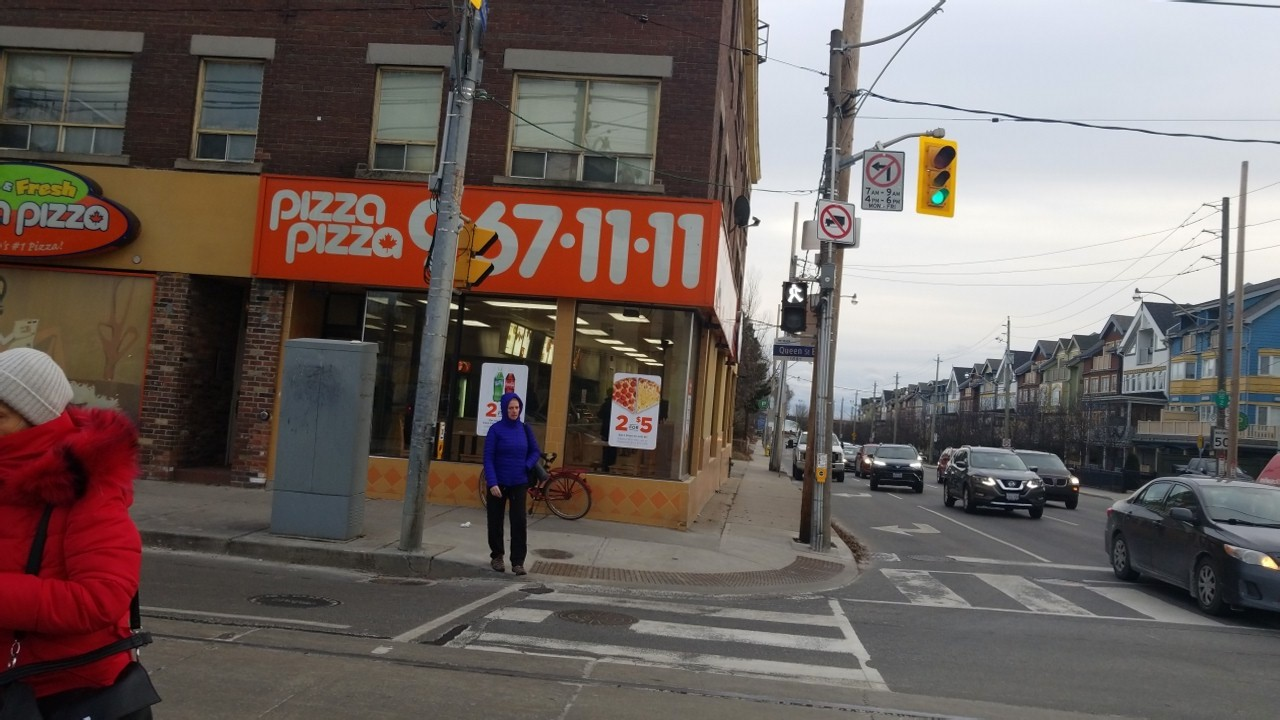light: (778, 275, 811, 339)
